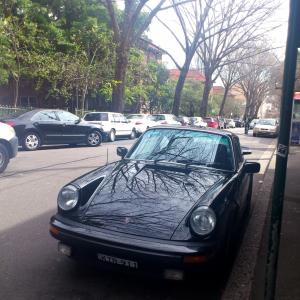Vehicle-registration-plate: (99, 255, 138, 269)
